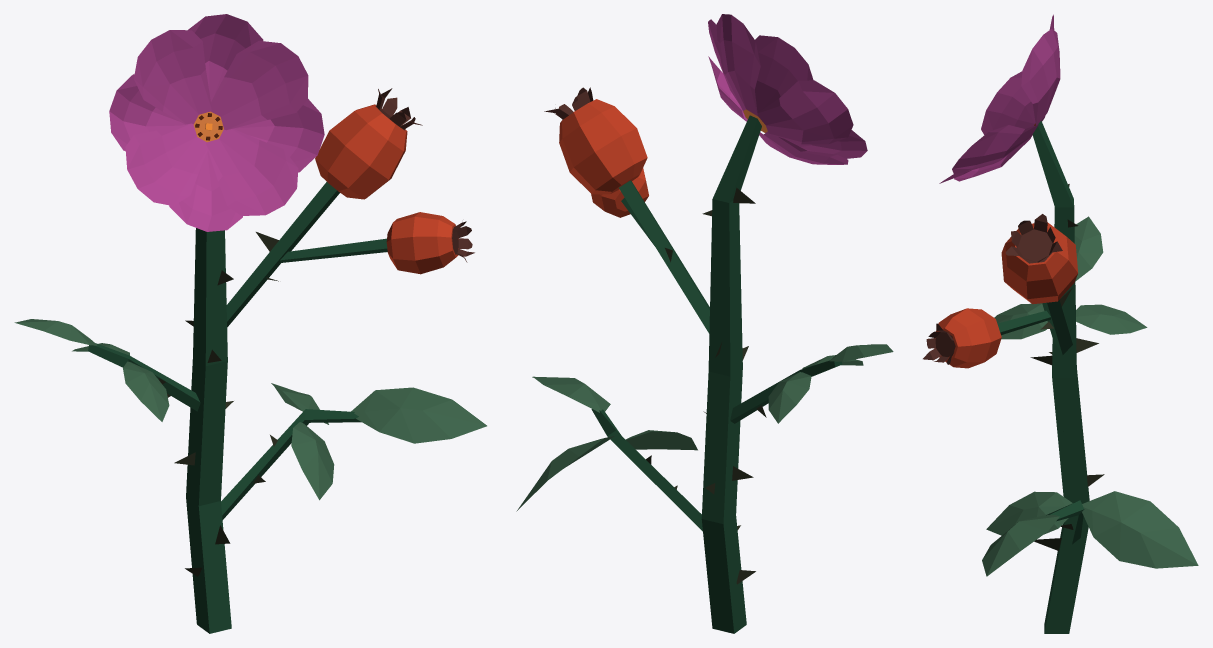
The model's file is Rosehip.fbx.
3 renders of one model, left to right at view 1: azimuth 30°, elevation 25°; view 2: azimuth 150°, elevation 25°; view 3: azimuth 270°, elevation 25°, orthographic. The views are drawn at different scales.
Parts seen in each view (by area): view 1: Rosehip_LOD0; view 2: Rosehip_LOD0; view 3: Rosehip_LOD0.
Boxes of the visible parts, box(x1,y1,x2,y2) form: Rosehip_LOD0: box(14, 14, 486, 633); Rosehip_LOD0: box(516, 14, 893, 633); Rosehip_LOD0: box(923, 14, 1198, 633).
Size of what is drawn, in the model's own units: 142 by 199 by 83.35.
